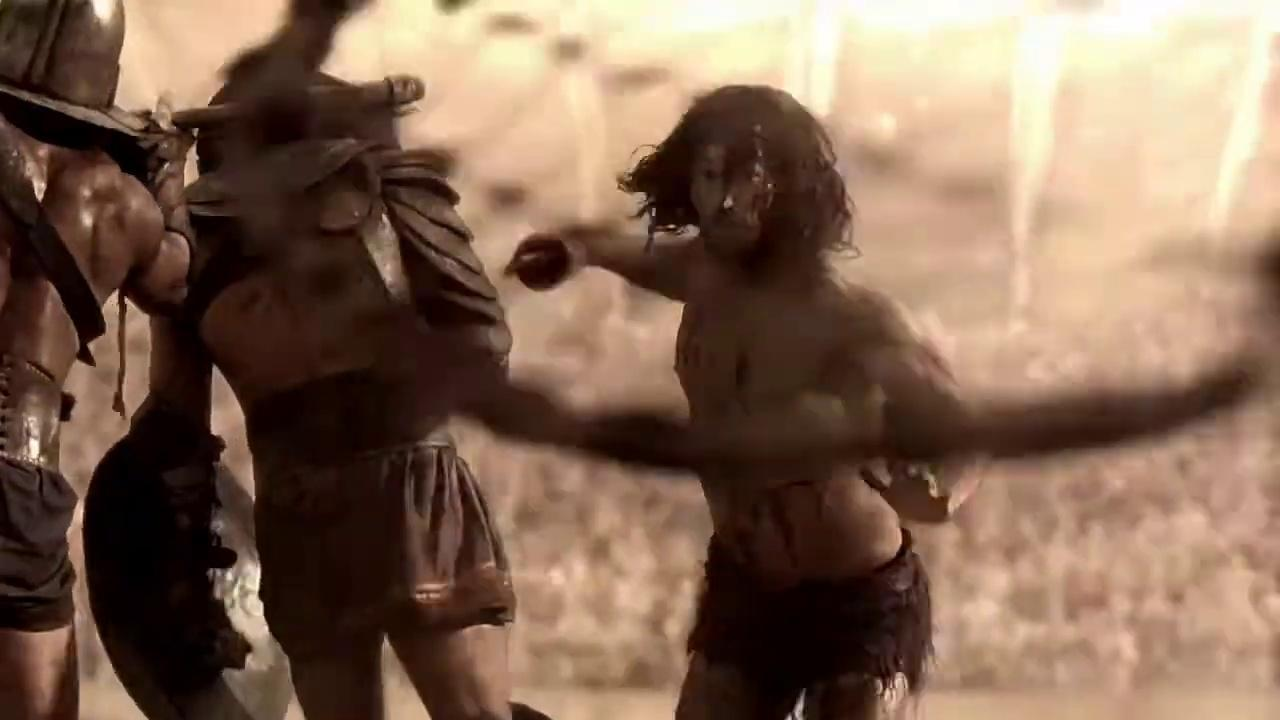Fire: (692, 123, 776, 262)
